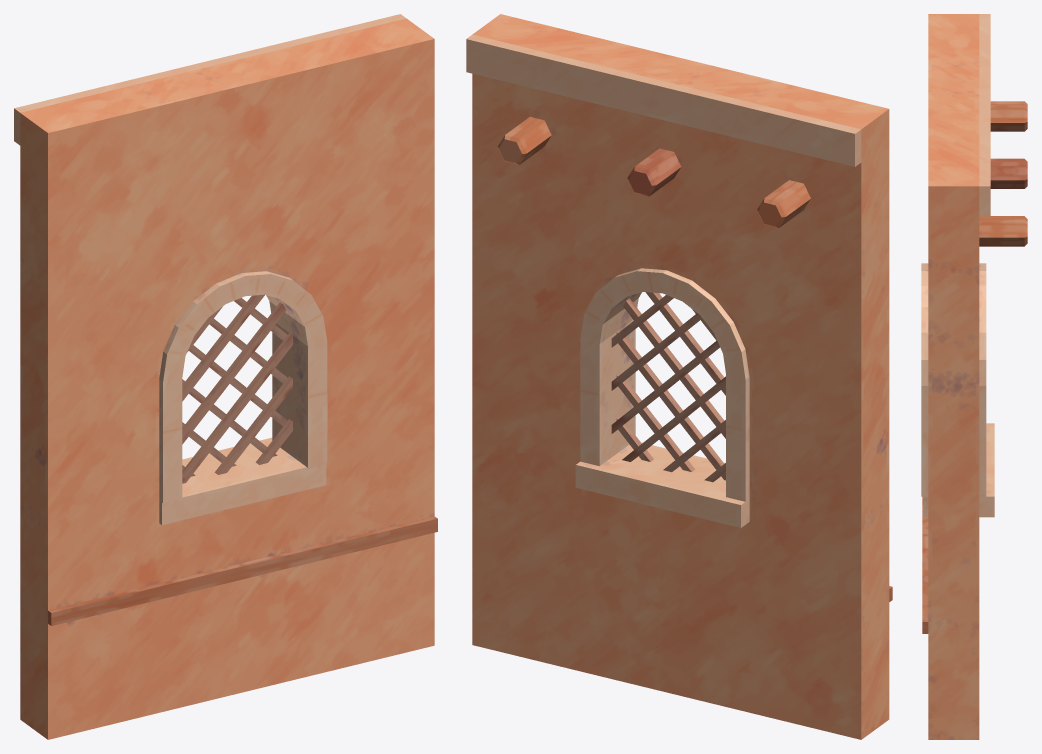
Rendered from wall2_upper_window_low.fbx.
3 renders of one model, left to right at view 1: azimuth 30°, elevation 25°; view 2: azimuth 150°, elevation 25°; view 3: azimuth 270°, elevation 25°, orthographic. The views are drawn at different scales.
Parts seen in each view (by area): view 1: wall2_upper_window; view 2: wall2_upper_window; view 3: wall2_upper_window.
Boxes of the visible parts, x1,y1,x2,y2 form: wall2_upper_window: (14,14,437,739); wall2_upper_window: (466,14,892,739); wall2_upper_window: (921,14,1027,739).
Bounding box in the file's own units: 8 × 12 × 2.09.
Materials: 1 (1 with a texture image).
